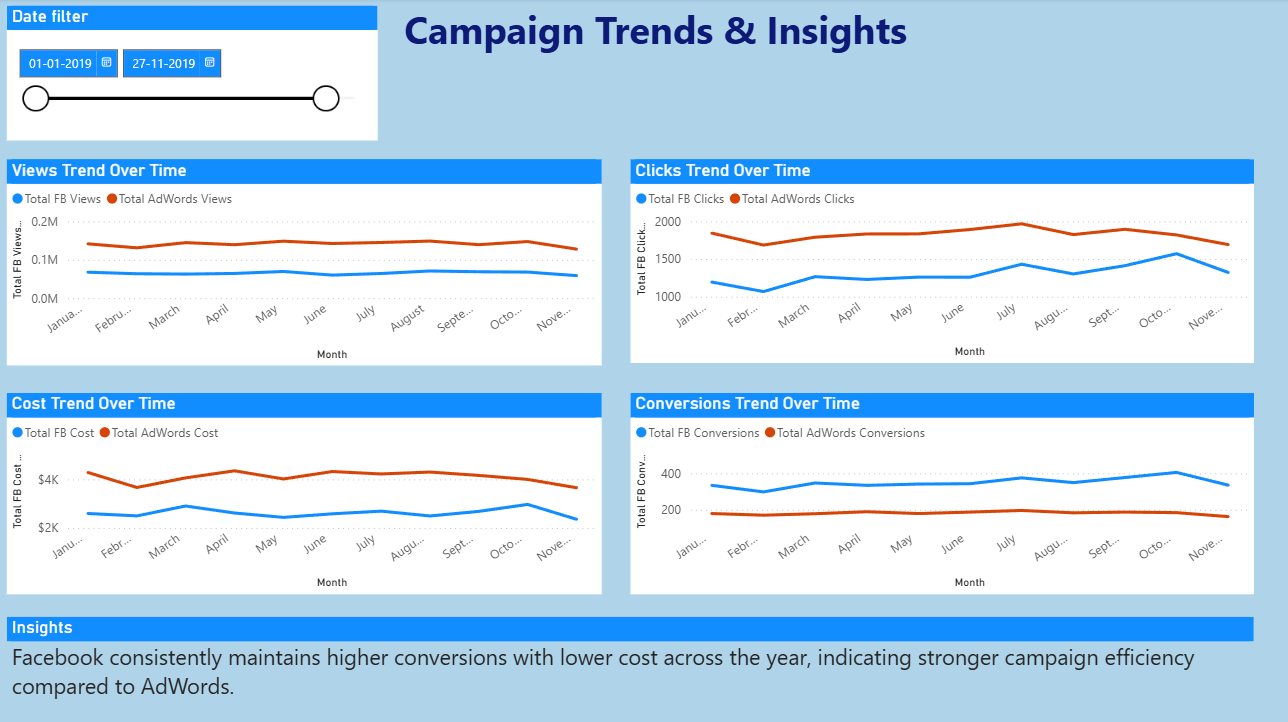

This screenshot's page, from the dashboard's own definition file:
{"tool":"powerbi","page":{"name":"Page 3","canvas":[1280,720],"ordinal":2},"visuals":[{"type":"textbox","box":[398.6,0,574.9,73.3],"z":0},{"type":"lineChart","title":"Views Trend Over Time","fields":{"Category":["Dataset.Date.Variation.Date Hierarchy.Month"],"Y":["Dataset.Total FB Views","Dataset.Total AdWords Views"]},"box":[13.7,157.7,583.6,202.4],"z":1000},{"type":"lineChart","title":"Clicks Trend Over Time","fields":{"Category":["Dataset.Date.Variation.Date Hierarchy.Month"],"Y":["Dataset.Total FB Clicks","Dataset.Total AdWords Clicks"]},"box":[625.8,157.7,612.2,199.9],"z":2000},{"type":"lineChart","title":"Conversions Trend Over Time","fields":{"Category":["Dataset.Date.Variation.Date Hierarchy.Month"],"Y":["Dataset.Total FB Conversions","Dataset.Total AdWords Conversions"]},"box":[625.8,387.4,612.2,197.4],"z":3000},{"type":"lineChart","title":"Cost Trend Over Time","fields":{"Category":["Dataset.Date.Variation.Date Hierarchy.Month"],"Y":["Dataset.Total FB Cost","Dataset.Total AdWords Cost"]},"box":[13.7,387.4,583.6,197.4],"z":4000},{"type":"slicer","title":"Date filter","fields":{"Values":["Dataset.Date"]},"box":[13.7,7.5,363.8,131.6],"z":5000},{"type":"textbox","title":"Insights","box":[13.7,607.2,1224.4,104.3],"z":6000}]}

Visuals, with their boxes in screenshot pixels (x1, y1, x2, y2), scaled from the page's 1280x720 canvas onto the 1288x722 screenshot:
textbox: (x1=401, y1=0, x2=980, y2=74)
"Views Trend Over Time" lineChart: (x1=14, y1=158, x2=601, y2=361)
"Clicks Trend Over Time" lineChart: (x1=630, y1=158, x2=1246, y2=359)
"Conversions Trend Over Time" lineChart: (x1=630, y1=388, x2=1246, y2=586)
"Cost Trend Over Time" lineChart: (x1=14, y1=388, x2=601, y2=586)
"Date filter" slicer: (x1=14, y1=8, x2=380, y2=139)
"Insights" textbox: (x1=14, y1=609, x2=1246, y2=713)
